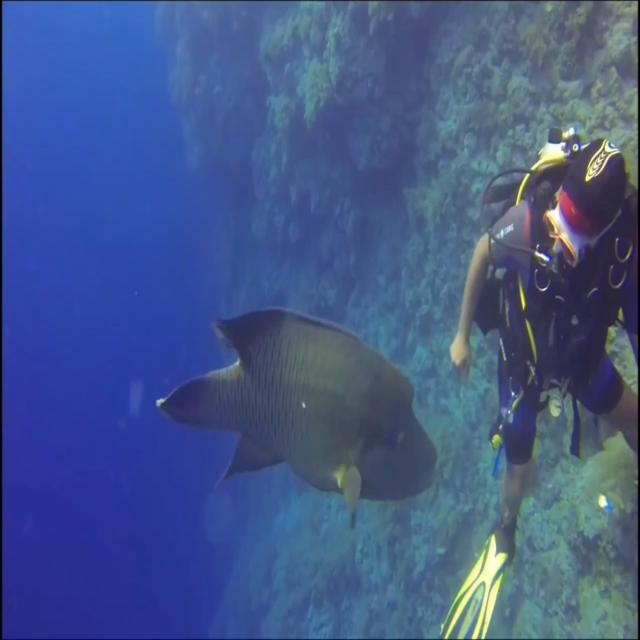Napoleon -Endangered-: (157, 308, 439, 532)
